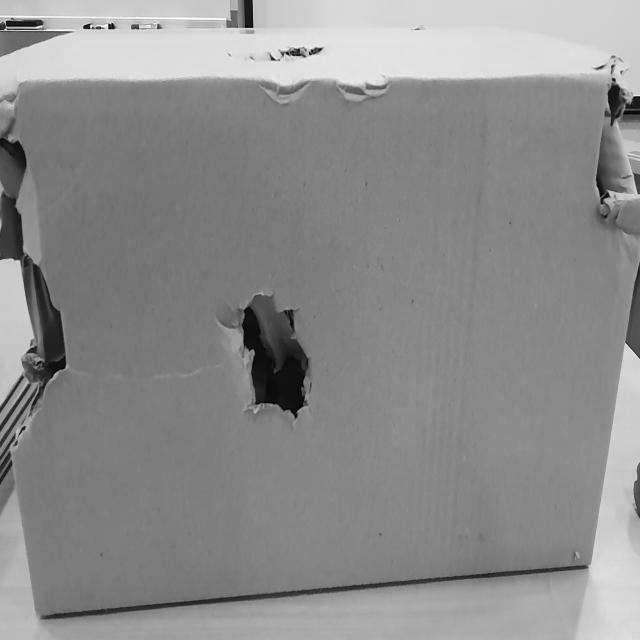hole: (0, 103, 75, 422), (227, 282, 318, 438), (591, 67, 636, 245), (245, 30, 335, 78)
